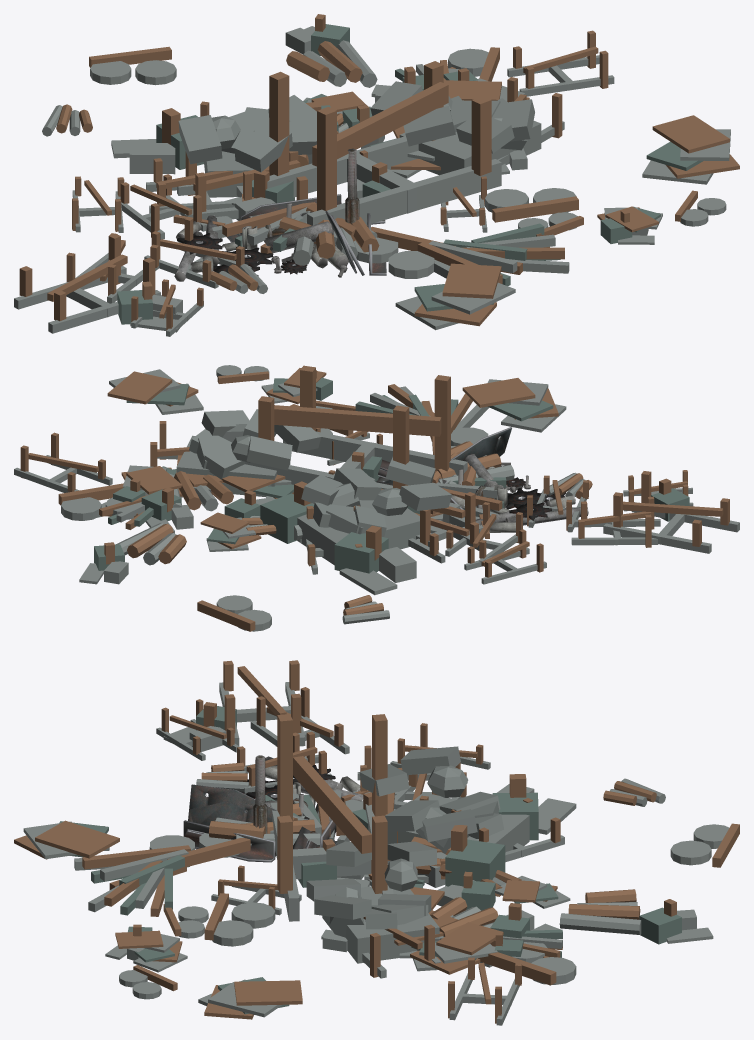
Rendered from scrap_large.glb.
3 views of the same model, one above another, from view 1: azimuth 30°, elevation 25°; view 2: azimuth 150°, elevation 25°; view 3: azimuth 270°, elevation 25° (orthographic). The views are drawn at different scales.
Visible parts, largest first — view 1: defaultMaterial.001; view 2: defaultMaterial.001; view 3: defaultMaterial.001.
Part boxes in pixels (bbox=[...]): defaultMaterial.001: bbox=[14, 14, 739, 336]; defaultMaterial.001: bbox=[14, 365, 739, 631]; defaultMaterial.001: bbox=[14, 660, 739, 1025].
Bounding box in the file's own units: 8.4 × 1.44 × 7.58.
Materials: 7 (1 with a texture image).
